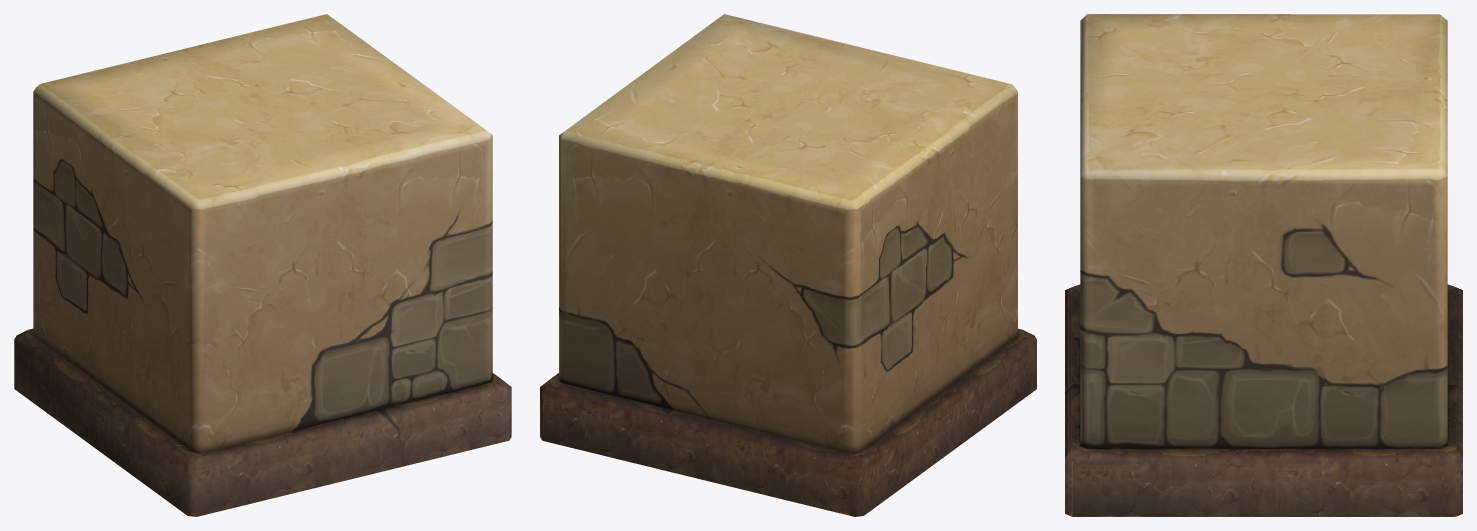
Rendered from DE_House_Mod_Part_06.fbx.
The picture shows the model from 3 angles, left to right: view 1: azimuth 30°, elevation 25°; view 2: azimuth 150°, elevation 25°; view 3: azimuth 270°, elevation 25°; orthographic projection. The views are drawn at different scales.
Visible parts, largest first — view 1: DE_House_Mod_Part_06; view 2: DE_House_Mod_Part_06; view 3: DE_House_Mod_Part_06.
Part boxes in pixels (x1=…): DE_House_Mod_Part_06: x1=14, y1=14, x2=511, y2=516; DE_House_Mod_Part_06: x1=540, y1=14, x2=1036, y2=516; DE_House_Mod_Part_06: x1=1065, y1=14, x2=1462, y2=516.
Size of the model in its own units: 6.01 by 5.42 by 5.78.
